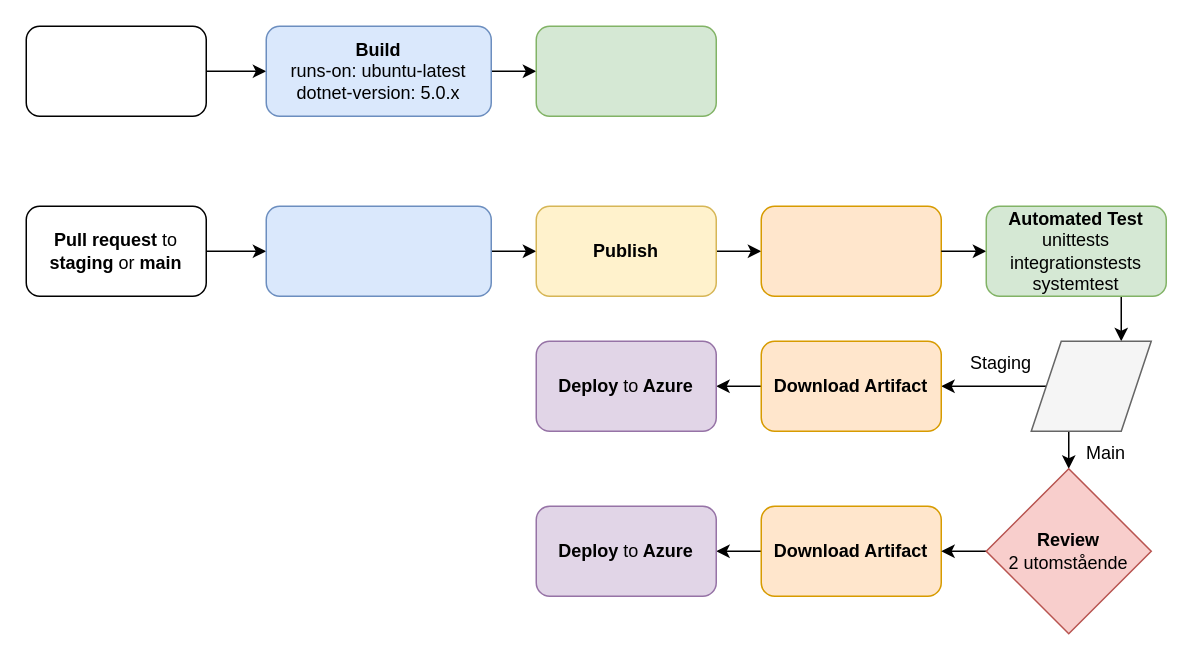
Image size: 1193x660. Some labels were removed from this diagram. The shapes that lost their labels are listed below. From the top down, each one's centre as x and y in pixels, then its label:
(115,70): Push to dev
(625,70): Test unittests integrationstests systemtest
(378,250): Build To Release runs-o n: ubuntu-latest dotnet-version: 5.0.x
(850,250): Upload Artifact
(1090,385): if
